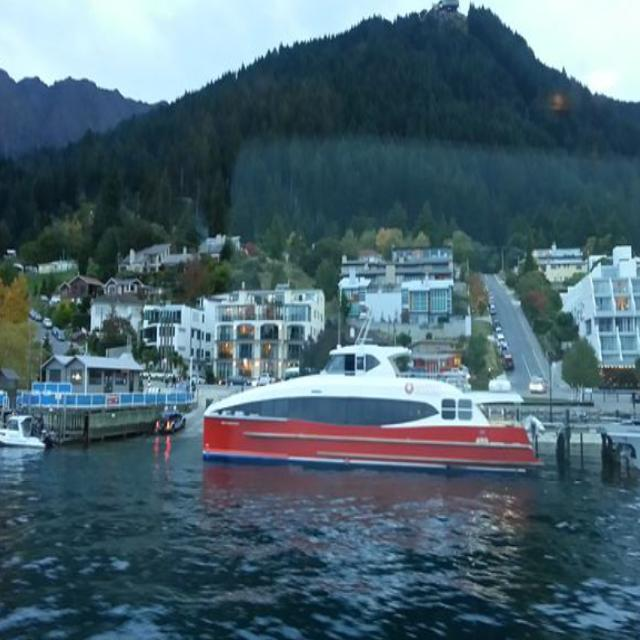houseboat: (185, 336, 537, 474)
